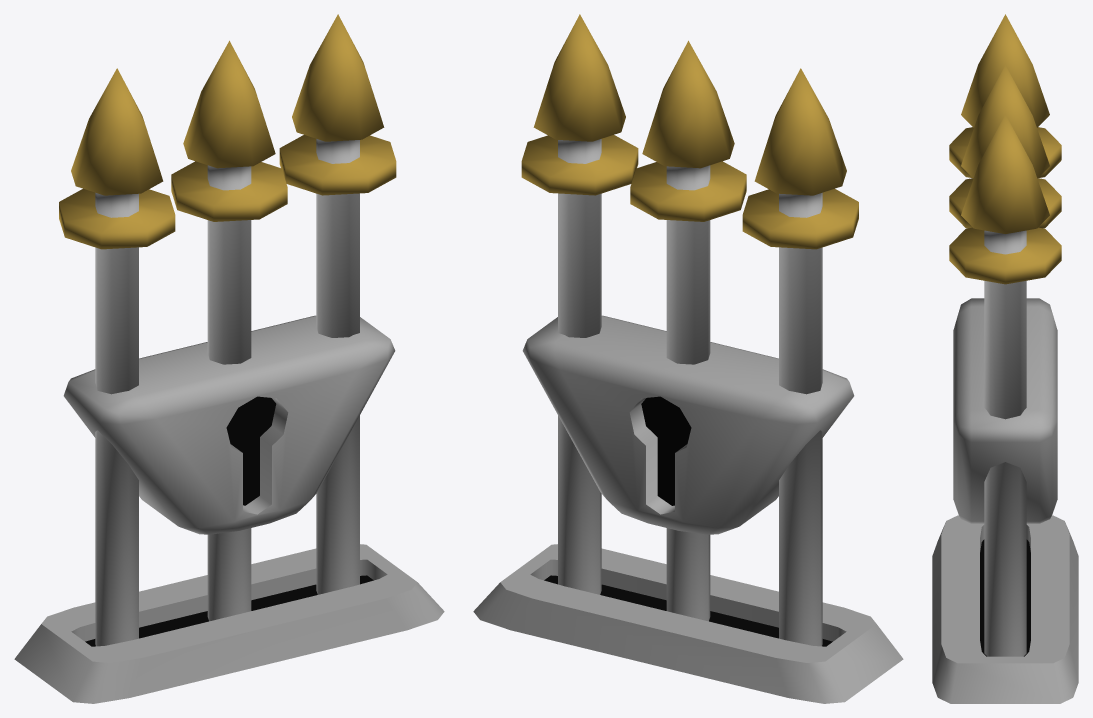
Rendered from Door.fbx.
3 renders of one model, left to right at view 1: azimuth 30°, elevation 25°; view 2: azimuth 150°, elevation 25°; view 3: azimuth 270°, elevation 25°, orthographic. The views are drawn at different scales.
Parts seen in each view (by area): view 1: DoorSpikes, DoorLock, Door; view 2: DoorSpikes, DoorLock, Door; view 3: DoorSpikes, Door, DoorLock.
Part boxes in pixels (x1,y1,x2,y2): DoorSpikes: (59, 14, 396, 646); DoorLock: (63, 315, 395, 534); Door: (14, 544, 444, 703); DoorSpikes: (521, 14, 858, 646); DoorLock: (522, 315, 854, 534); Door: (473, 544, 903, 703); DoorSpikes: (949, 14, 1061, 656); Door: (932, 515, 1078, 703); DoorLock: (953, 298, 1057, 523).
Size of the model in its own units: 80.35 by 123 by 29.41.
